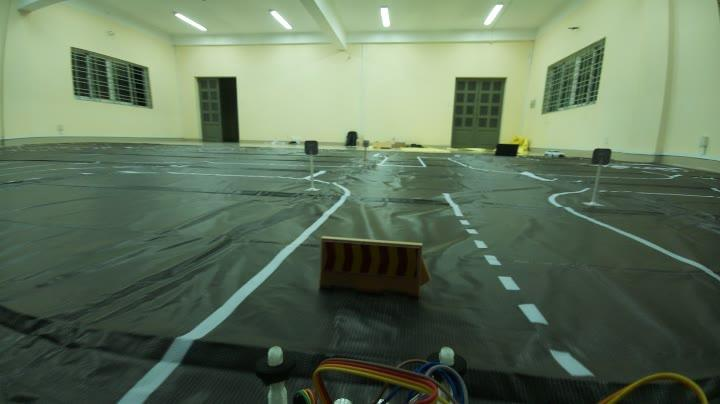roadblock: (315, 231, 431, 307)
